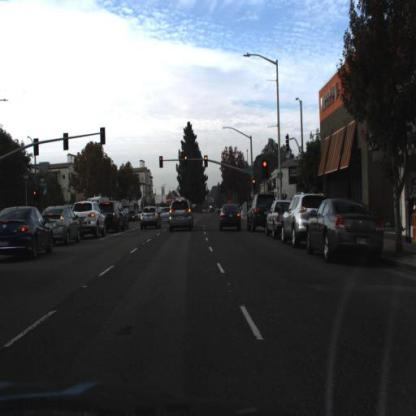car: (305, 198, 391, 262), (1, 202, 55, 262), (279, 187, 326, 248), (41, 202, 85, 253), (72, 199, 108, 244), (245, 191, 274, 237), (265, 194, 292, 237), (100, 197, 132, 233), (168, 196, 195, 234), (140, 202, 163, 233), (220, 202, 242, 231)
trafficLight-Red: (262, 157, 270, 182), (180, 152, 189, 171), (159, 156, 167, 173), (203, 153, 211, 170), (252, 176, 259, 195)
